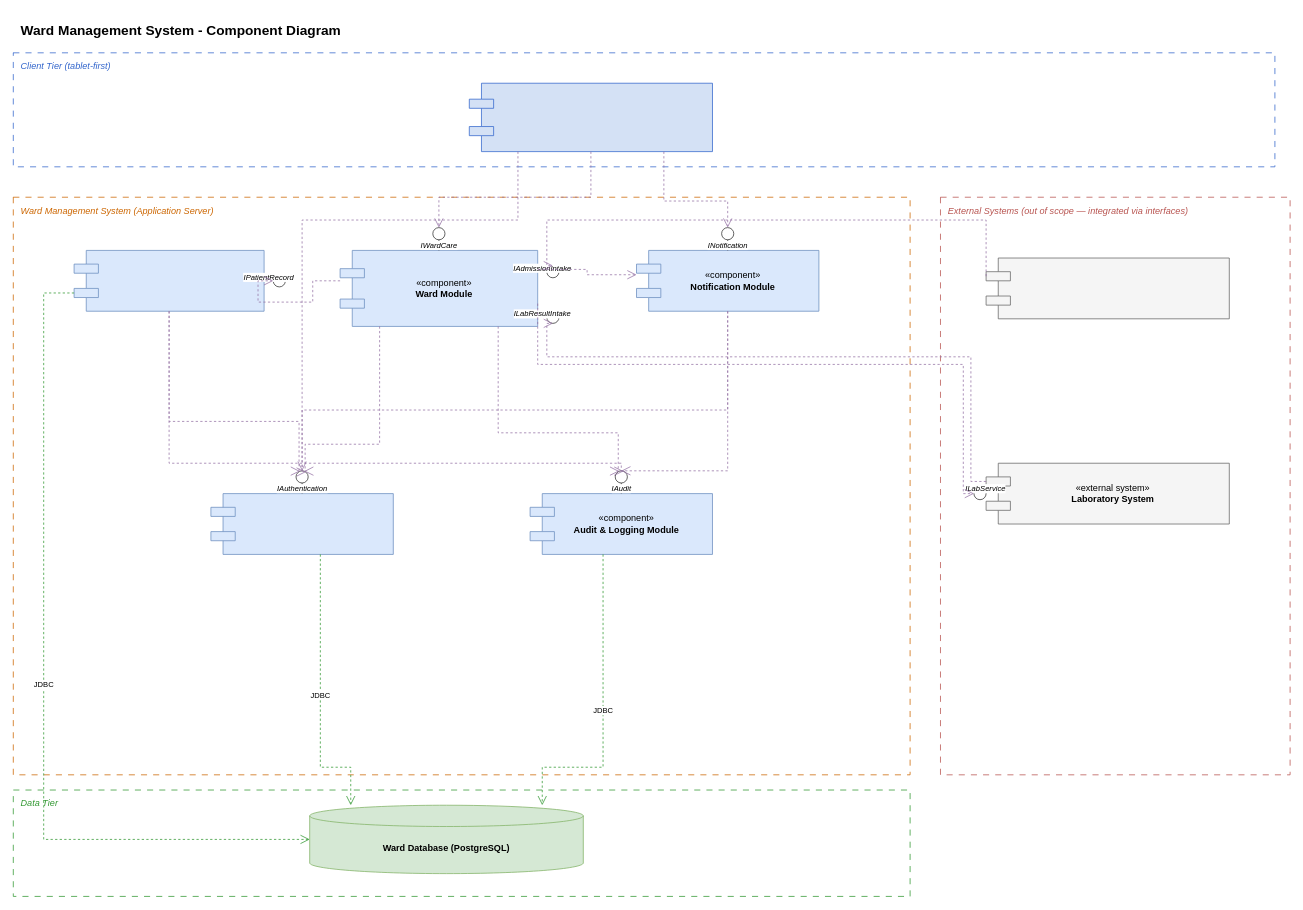
The diagram is 1303 pixels wide and 910 high, and some of its shapes have lost their labels. Here are the shapes that lost their labels. From the top down, the centre of each, then its label:
At (x=590, y=117): "«component» Ward Tablet Client (PRIMARY)".
At (x=168, y=280): "«component» Patient Records Module".
At (x=1107, y=288): "«external system» OPD System".
At (x=301, y=523): "«component» Auth Module".
